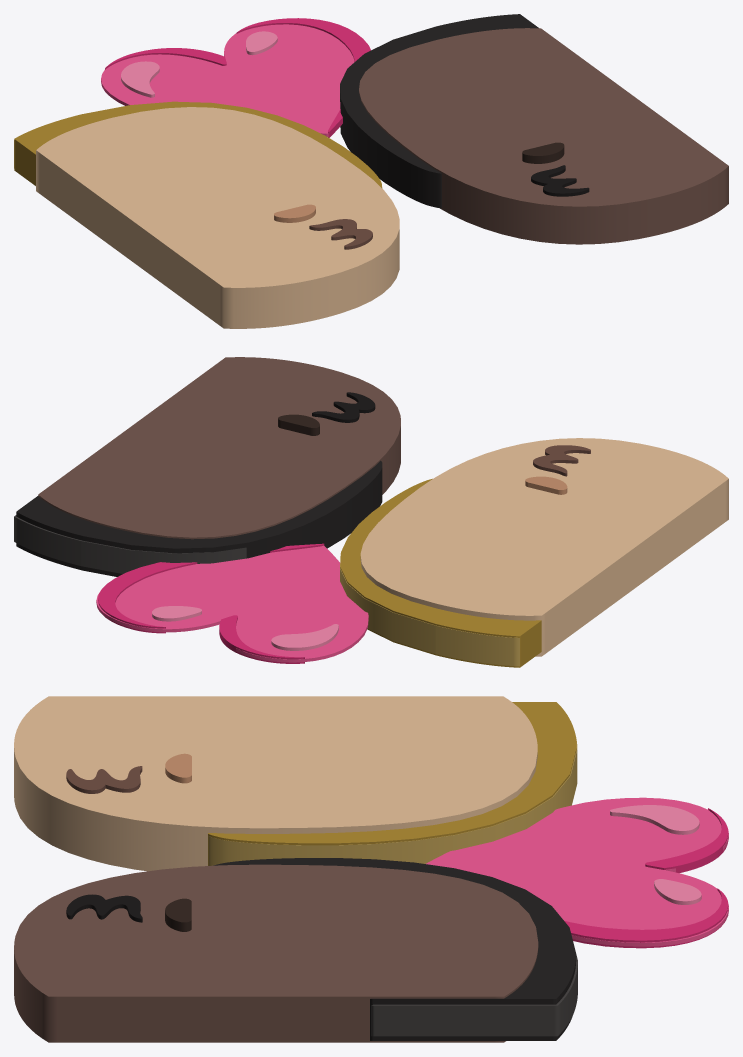
The model's file is emoji_u1f468_1f3fc_200d_2764_200d_1f48b_200d_1f468_1f3ff.glb.
3 views of the same model, one above another, from view 1: azimuth 30°, elevation 25°; view 2: azimuth 150°, elevation 25°; view 3: azimuth 270°, elevation 25° (orthographic). The views are drawn at different scales.
Visible parts, largest first — view 1: emoji_u1f468_1f3fc_200d_2764_200d_1f48b_200d_1f468_1f3ff; view 2: emoji_u1f468_1f3fc_200d_2764_200d_1f48b_200d_1f468_1f3ff; view 3: emoji_u1f468_1f3fc_200d_2764_200d_1f48b_200d_1f468_1f3ff.
Part boxes in pixels (bbox=[...]): emoji_u1f468_1f3fc_200d_2764_200d_1f48b_200d_1f468_1f3ff: bbox=[14, 14, 728, 328]; emoji_u1f468_1f3fc_200d_2764_200d_1f48b_200d_1f468_1f3ff: bbox=[14, 357, 728, 667]; emoji_u1f468_1f3fc_200d_2764_200d_1f48b_200d_1f468_1f3ff: bbox=[14, 696, 728, 1042].
Size of the model in its own units: 0.0336 by 0.0034 by 0.0339.
